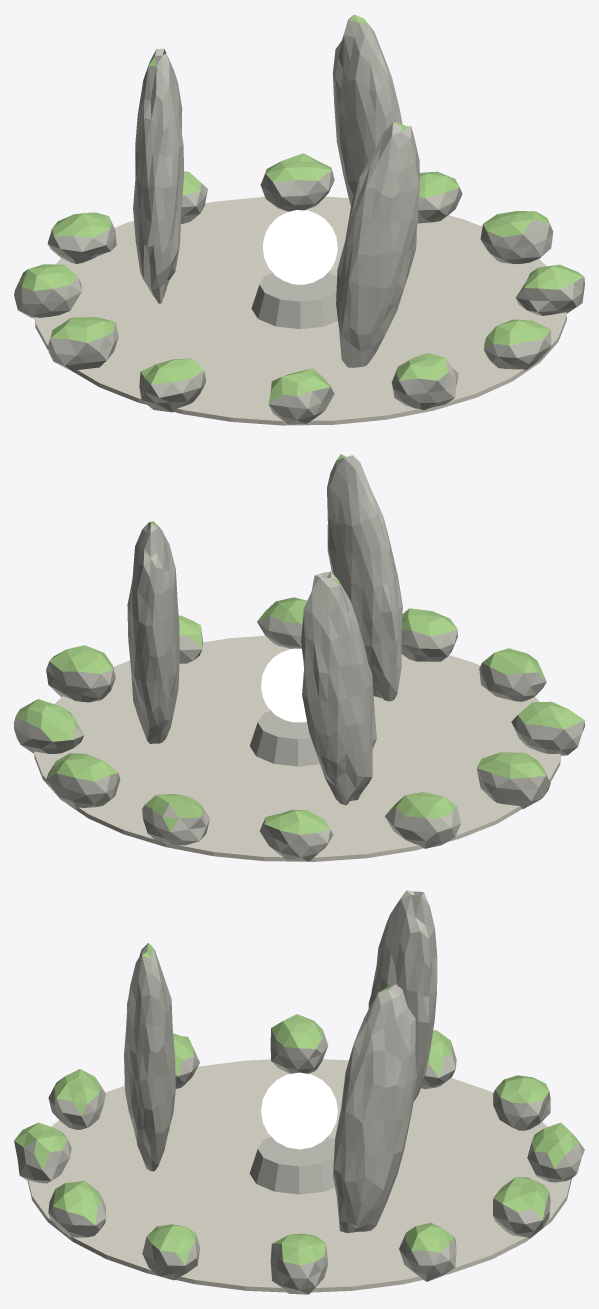
The model's file is Shrine.glb.
The picture shows the model from 3 angles, top to bottom: view 1: azimuth 30°, elevation 25°; view 2: azimuth 150°, elevation 25°; view 3: azimuth 270°, elevation 25°; orthographic projection. The views are drawn at different scales.
Visible parts, largest first — view 1: Shrine; view 2: Shrine; view 3: Shrine.
Part boxes in pixels (x1,y1,x2,y2): Shrine: [14, 14, 584, 425]; Shrine: [14, 454, 584, 861]; Shrine: [14, 890, 584, 1294].
Size of the model in its own units: 18.4 by 8.43 by 17.8.
